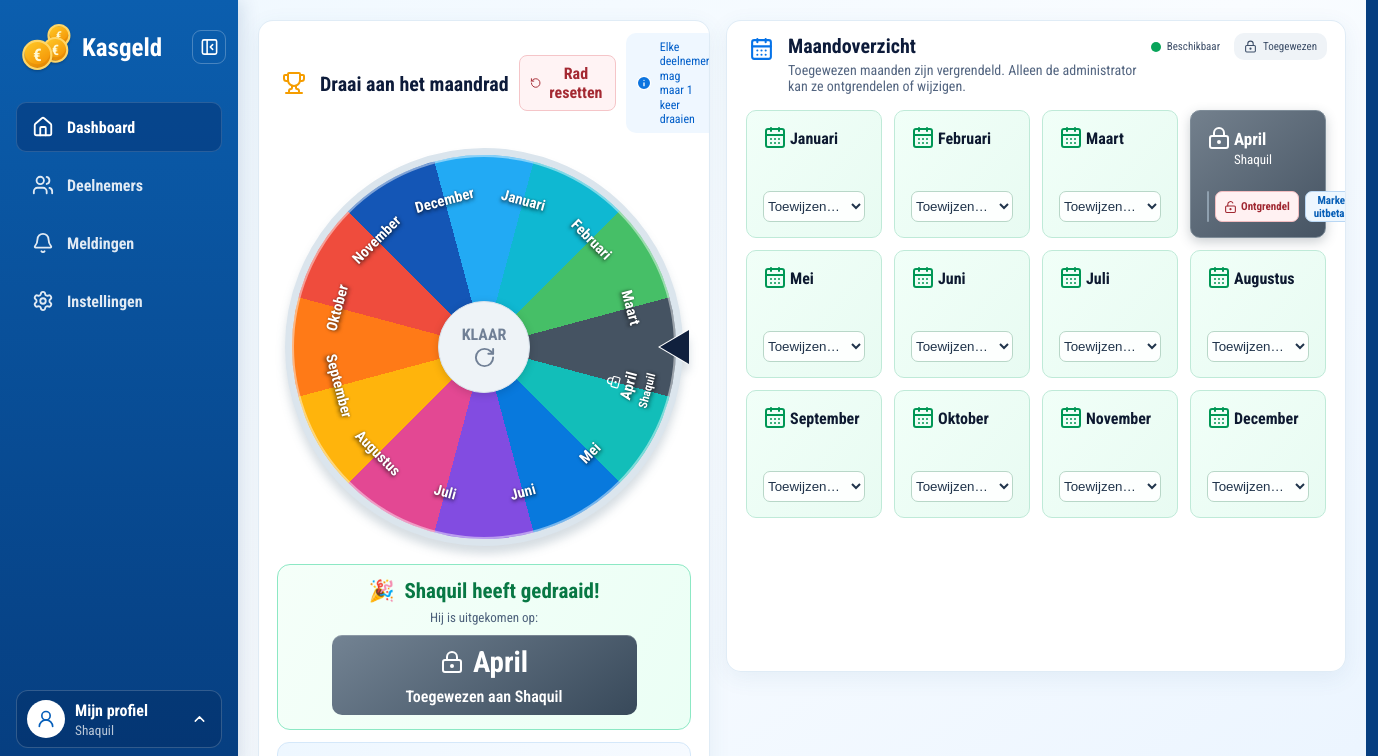
Test: Kasgeld dashboard › opent het eigen profielpaneel met de uitlogactie
This screenshot has width=1378, height=756.
Click the button "Mijn profiel Shaquil" at {"x": 119, "y": 719}, box [16,690,222,748]
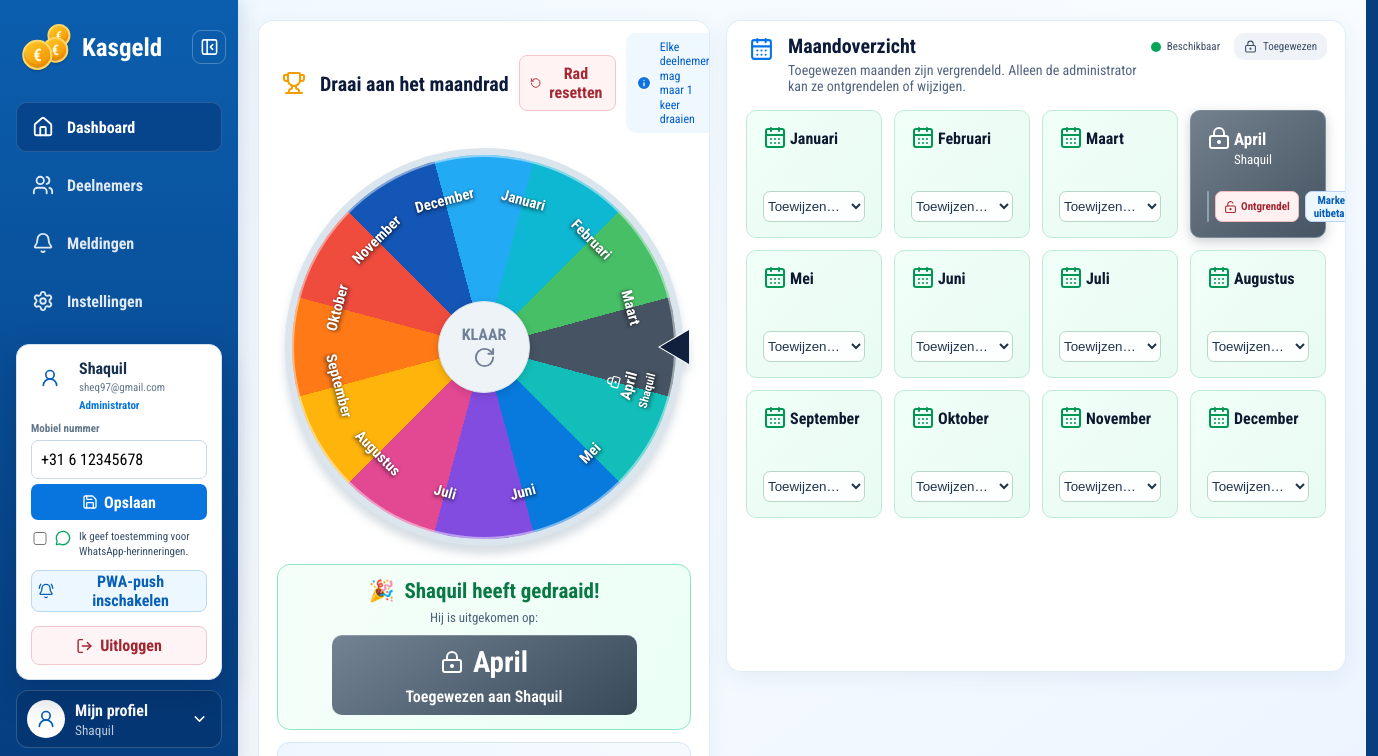
Expected: the element named "Mijn profiel" shows "sheq97@gmail.com", [79,381,165,394]
Expected: the button "Uitloggen" is shown, [31,626,207,665]
